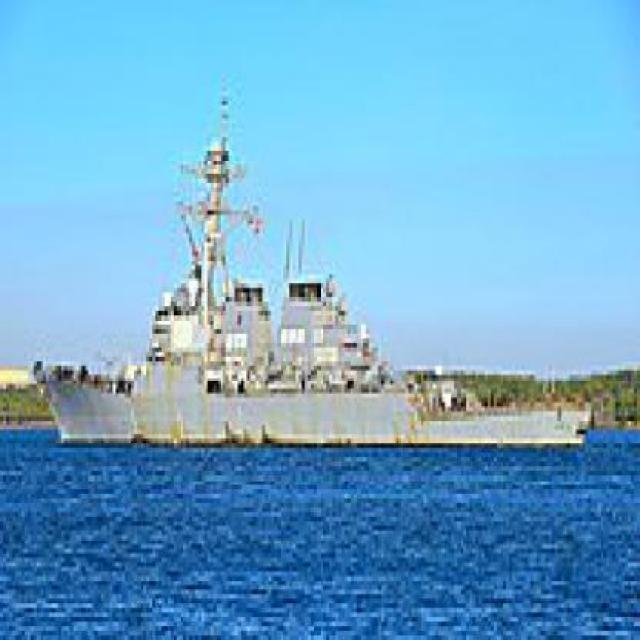warship2: (31, 110, 614, 467)
